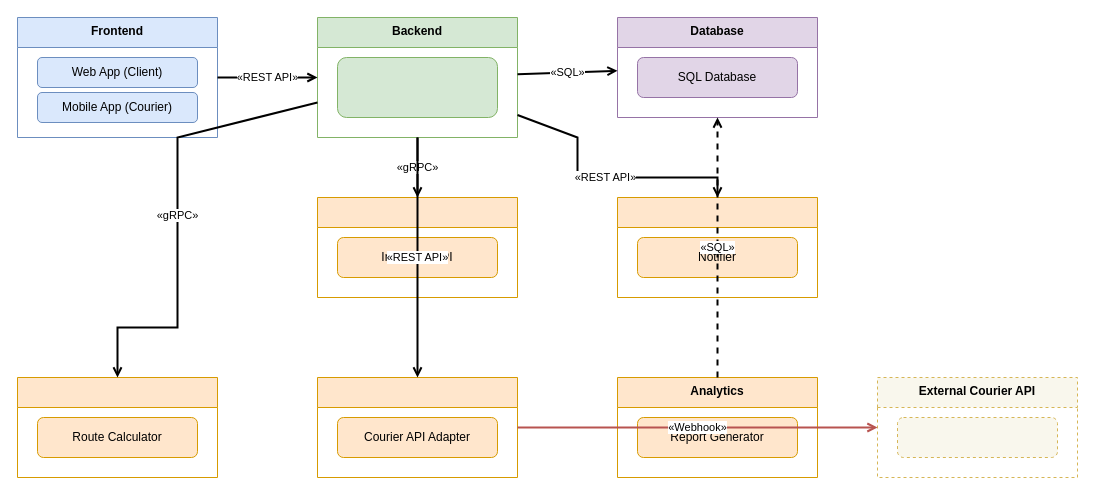
Some shapes in this 1095 by 495 pixel diagram are drawn without their labels. The shapes that lost their labels are listed below. From the top down, each one's box as (x1, y1, x2, y2) in pixels, then its label:
(336, 56, 498, 118): Order Management
(316, 196, 518, 298): Warehouse Management
(616, 196, 818, 298): Notification System
(16, 376, 218, 478): Route Optimization
(316, 376, 518, 478): Courier Integration
(896, 416, 1058, 458): Courier Service
